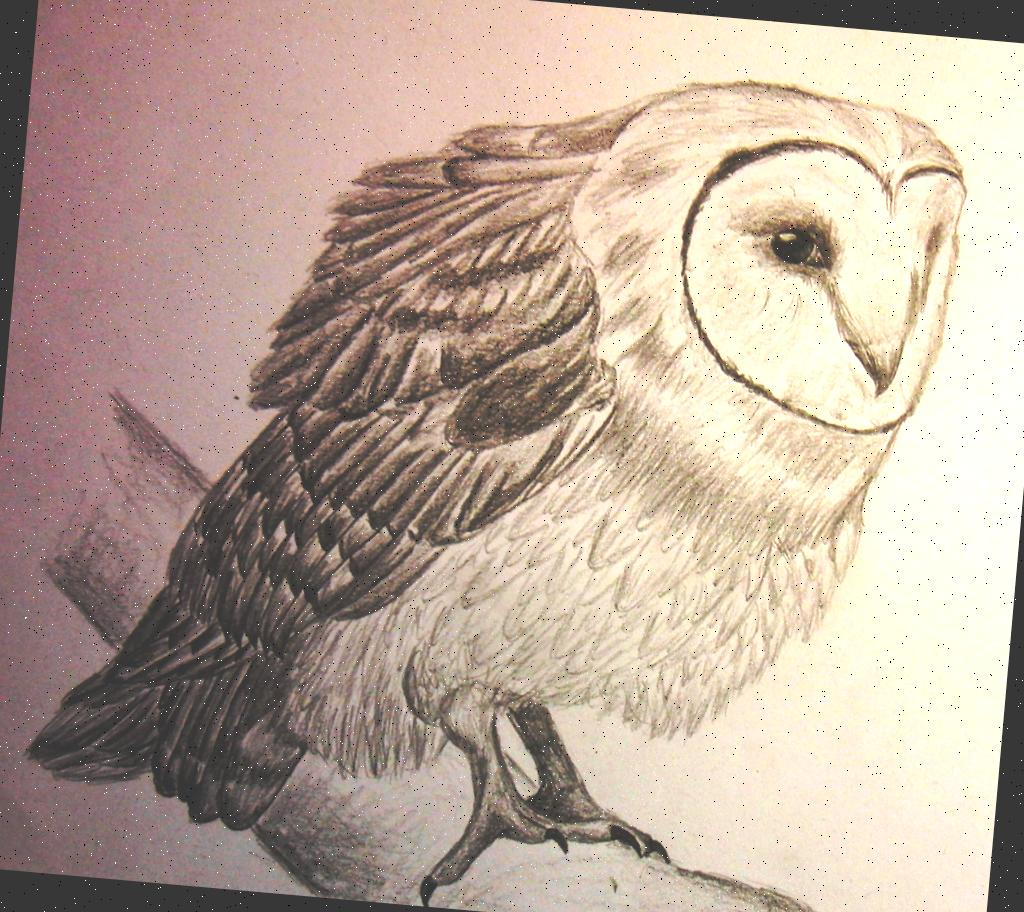Owl: (10, 18, 975, 912)
